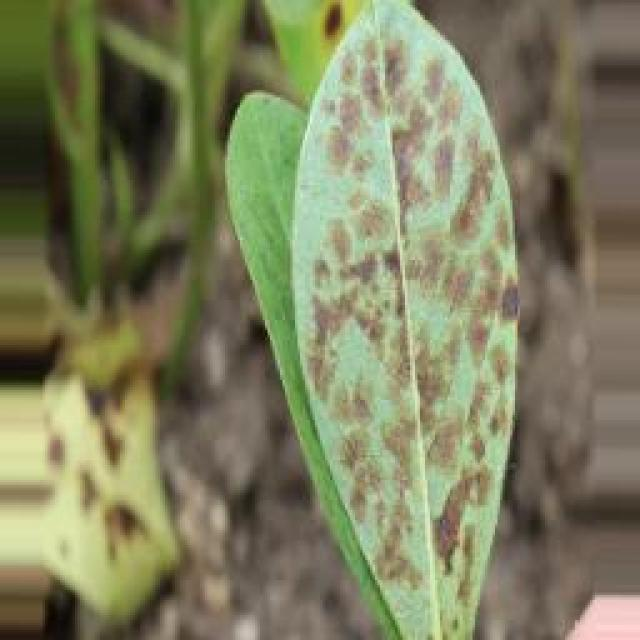Whitefly: (211, 0, 562, 640)
